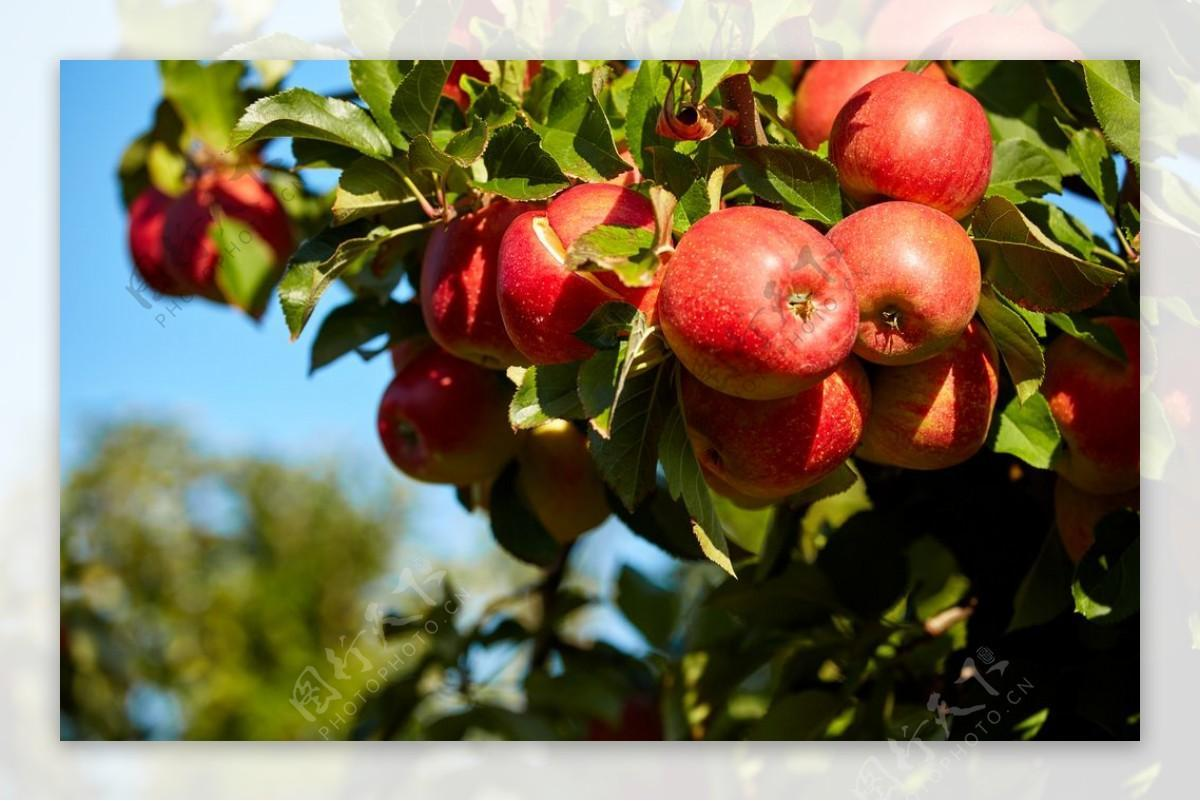apple: (652, 199, 859, 400), (672, 351, 867, 500), (826, 202, 982, 365), (830, 70, 992, 219), (499, 209, 632, 361), (855, 328, 994, 471), (655, 102, 716, 141)
